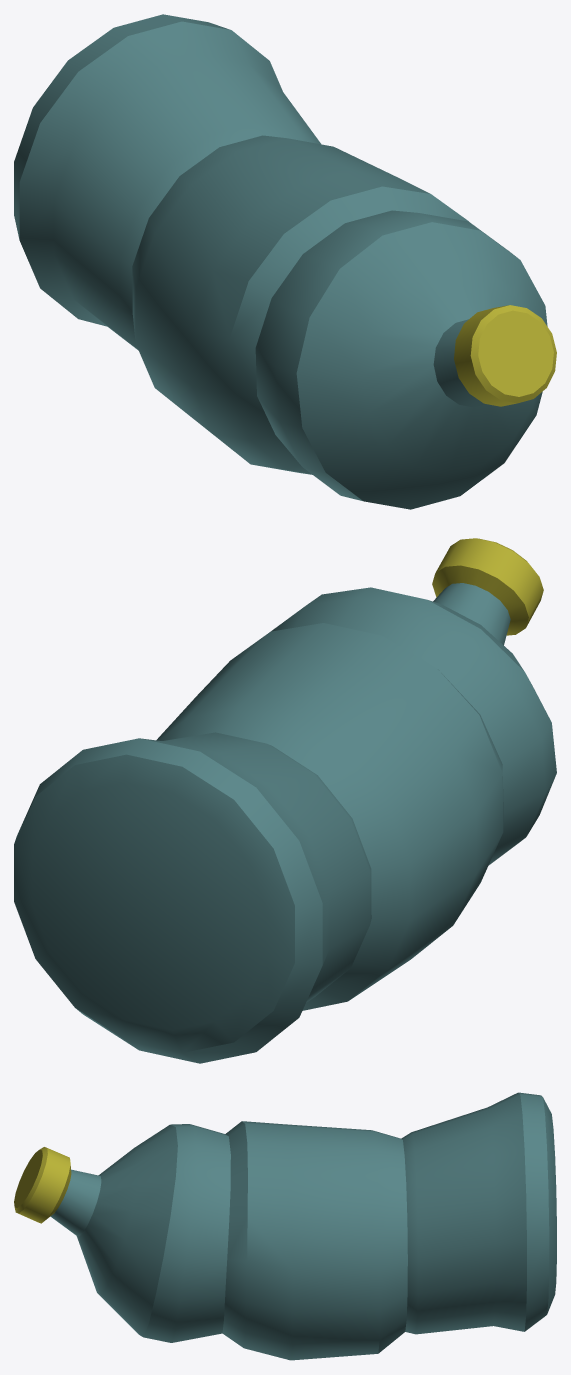
The model's file is Botella_06.fbx.
The picture shows the model from 3 angles, top to bottom: view 1: azimuth 30°, elevation 25°; view 2: azimuth 150°, elevation 25°; view 3: azimuth 270°, elevation 25°; orthographic projection. The views are drawn at different scales.
Parts seen in each view (by area): view 1: Botella_06; view 2: Botella_06; view 3: Botella_06.
Boxes of the visible parts, <box> form: Botella_06: <box>14,14,556,509</box>; Botella_06: <box>14,538,556,1063</box>; Botella_06: <box>14,1092,556,1360</box>.
Bounding box in the file's own units: 27.91 × 29.74 × 61.12.
